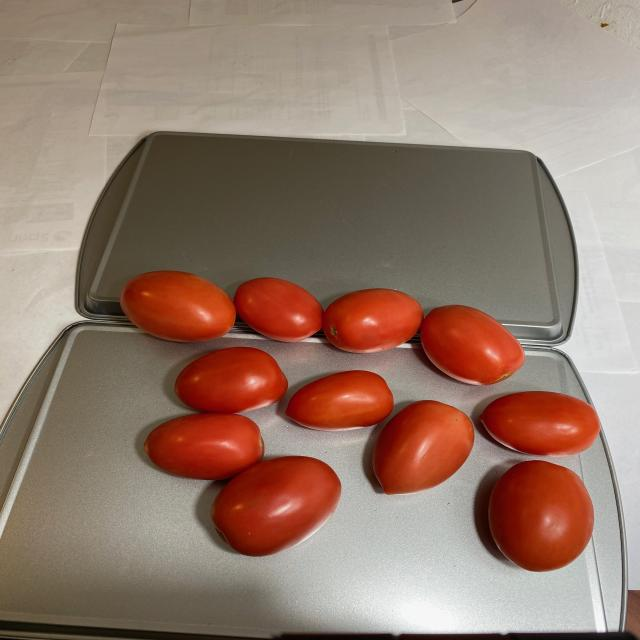tomato: (111, 268, 601, 565)
